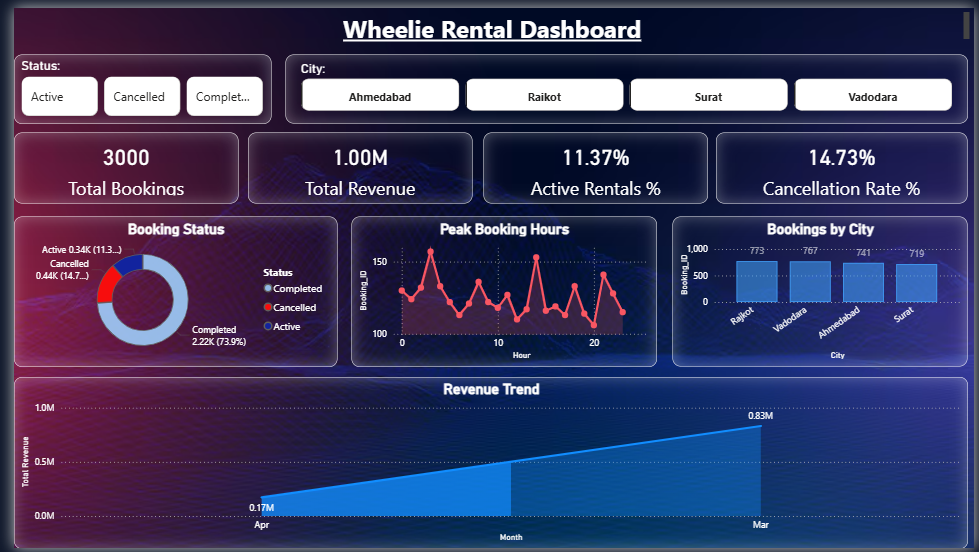

This screenshot's page, from the dashboard's own definition file:
{"tool":"powerbi","page":{"name":"Page 1","canvas":[1280,720],"ordinal":0},"visuals":[{"type":"textbox","box":[4.8,0,1275.2,49.6],"z":0},{"type":"donutChart","title":"Booking Status","fields":{"Category":["Bookings.Status"],"Y":["CountNonNull(Bookings.Booking_ID)"]},"box":[0,278.4,431.1,200.4],"z":1000},{"type":"lineChart","title":"Peak Booking Hours","fields":{"Y":["CountNonNull(Bookings.Booking_ID)"],"Category":["Bookings.Hour"]},"box":[450.9,278.4,407.2,200.4],"z":2000},{"type":"columnChart","title":"Bookings by City","fields":{"Y":["CountNonNull(Bookings.Booking_ID)"],"Category":["City_Table.City"]},"box":[878.3,278.1,393.6,200.1],"z":3000},{"type":"areaChart","title":"Revenue Trend","fields":{"Category":["Bookings.Month"],"Y":["Bookings.Total Revenue"]},"box":[0,491.2,1272,229.3],"z":4000},{"type":"advancedSlicerVisual","title":"Status:","fields":{"Values":["Bookings.Status"]},"box":[0,61.8,343.2,92.7],"z":5000},{"type":"advancedSlicerVisual","title":"City:","fields":{"Values":["Bookings.City"]},"box":[362,62,910,92],"z":6000},{"type":"shape","box":[4.8,167,316.5,77.9],"z":7000},{"type":"card","fields":{"Values":["Bookings.Total Bookings"]},"box":[0,166.4,299.2,94.4],"z":8000},{"type":"card","fields":{"Values":["Bookings.Total Revenue"]},"box":[312.5,166.4,299.2,94.4],"z":9000},{"type":"card","fields":{"Values":["Bookings.Active Rentals %"]},"box":[625.1,166.4,299.2,94.4],"z":10000},{"type":"card","fields":{"Values":["Bookings.Cancellation Rate %"]},"box":[936.9,165.9,335.1,94.3],"z":11000}]}

Visuals, with their boxes in screenshot pixels (x1, y1, x2, y2), scaled from the page's 1280x720 canvas onto the 979x552 screenshot:
textbox: bbox=(4, 0, 978, 38)
"Booking Status" donutChart: bbox=(0, 213, 330, 367)
"Peak Booking Hours" lineChart: bbox=(345, 213, 656, 367)
"Bookings by City" columnChart: bbox=(672, 213, 973, 367)
"Revenue Trend" areaChart: bbox=(0, 377, 973, 551)
"Status:" advancedSlicerVisual: bbox=(0, 47, 262, 118)
"City:" advancedSlicerVisual: bbox=(277, 48, 973, 118)
shape: bbox=(4, 128, 246, 188)
card - Bookings.Total Bookings: bbox=(0, 128, 229, 200)
card - Bookings.Total Revenue: bbox=(239, 128, 468, 200)
card - Bookings.Active Rentals %: bbox=(478, 128, 707, 200)
card - Bookings.Cancellation Rate %: bbox=(717, 127, 973, 199)
